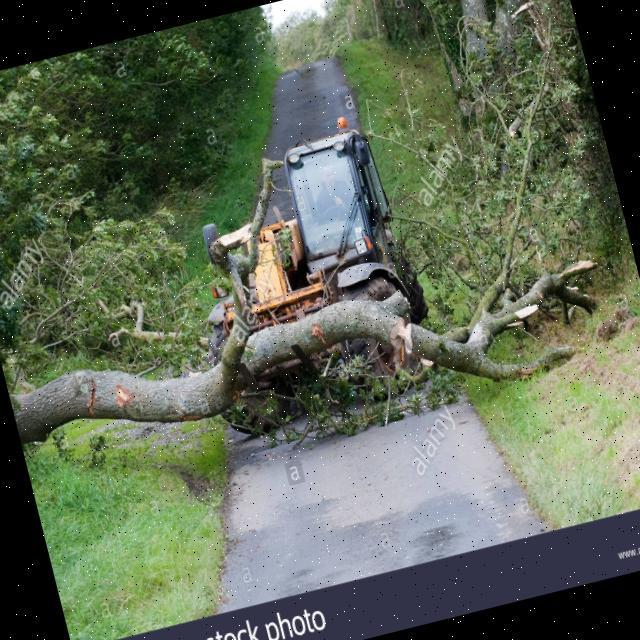fallen_object: (0, 209, 585, 508)
